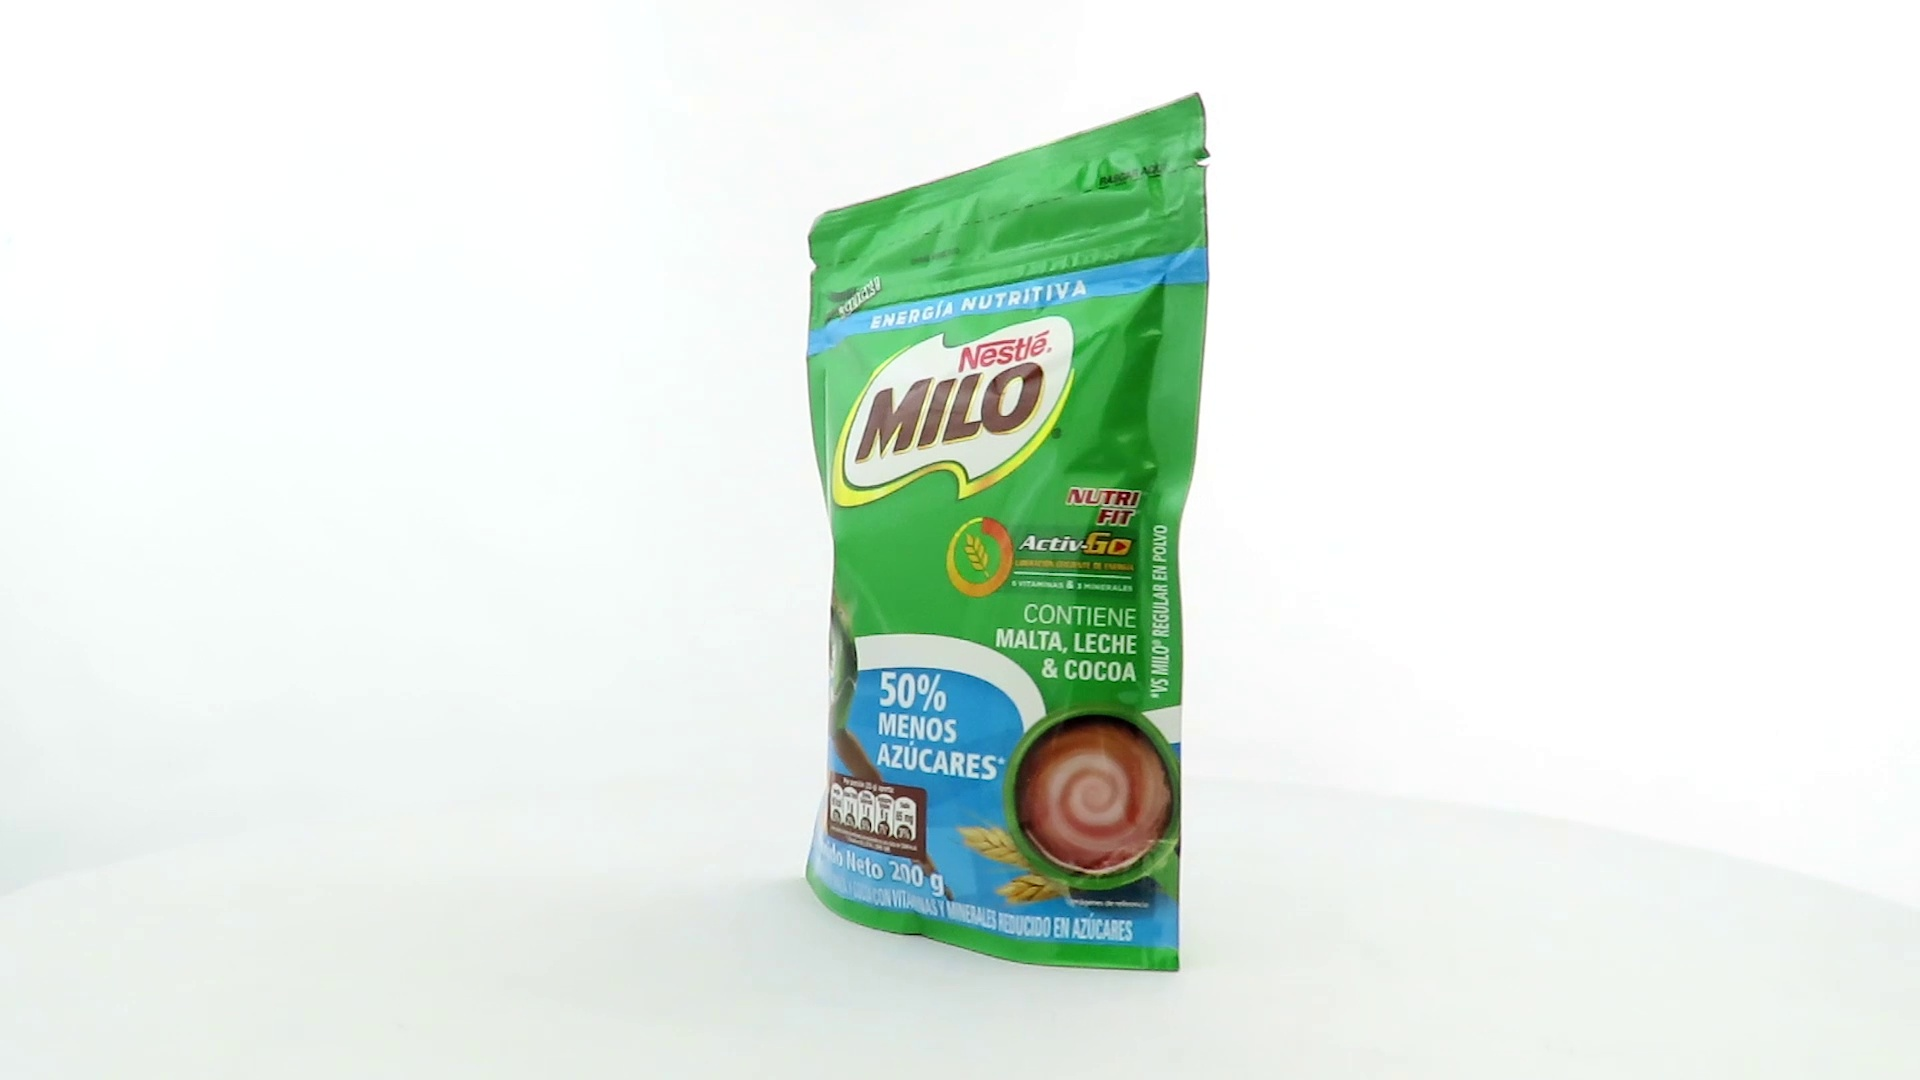COL0170205DYP20000: (800, 87, 1217, 978)
